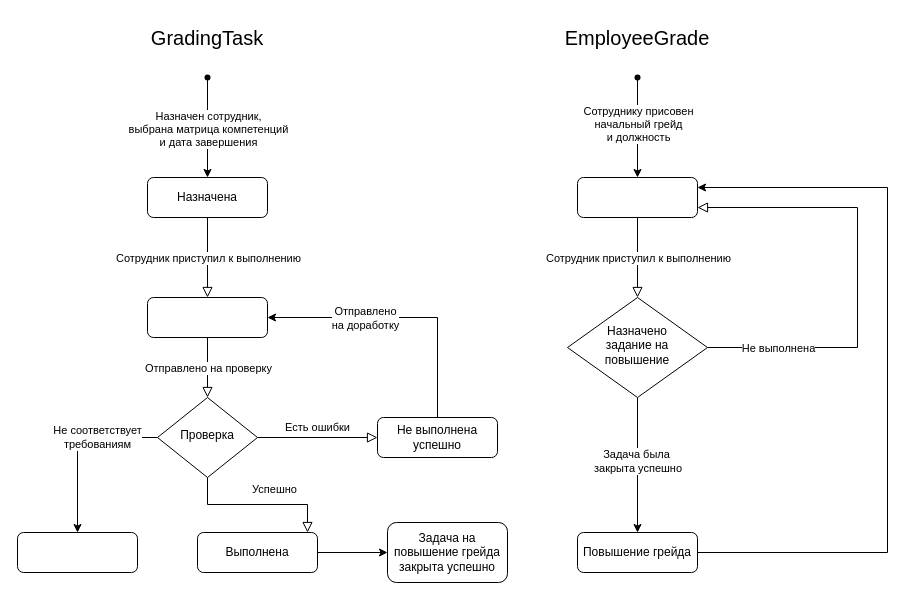
Some shapes in this 913 by 600 pixel diagram are drawn without their labels. Here are the shapes that lost their labels. From the top down, the box of each, then its label:
(576, 176, 698, 218): Активен
(146, 296, 268, 338): В работе
(16, 532, 138, 572): Отменена
